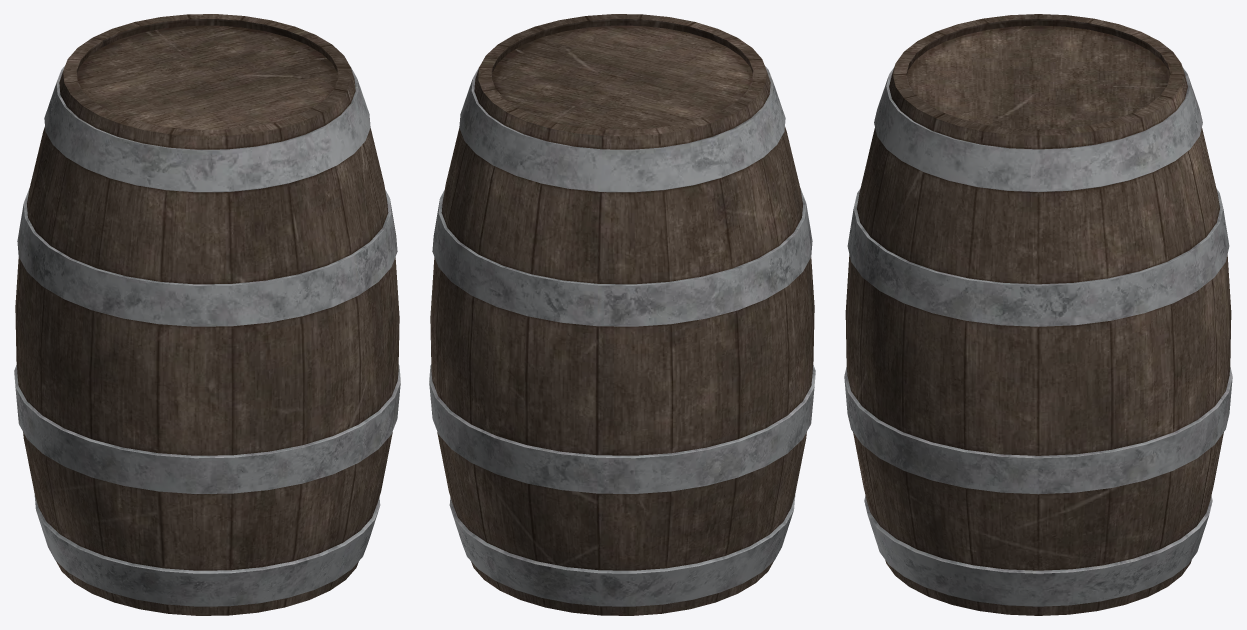
The model's file is barrel-opt.glb.
3 renders of one model, left to right at view 1: azimuth 30°, elevation 25°; view 2: azimuth 150°, elevation 25°; view 3: azimuth 270°, elevation 25°, orthographic.
Visible parts, largest first — view 1: Barrel_Barrel_New_0; view 2: Barrel_Barrel_New_0; view 3: Barrel_Barrel_New_0.
Part boxes in pixels (<box>): Barrel_Barrel_New_0: <box>14,14,400,615</box>; Barrel_Barrel_New_0: <box>429,14,815,615</box>; Barrel_Barrel_New_0: <box>844,14,1232,615</box>.
Size of the model in its own units: 0.8187 by 1.11 by 0.8205.
1 material, 1 textured.
